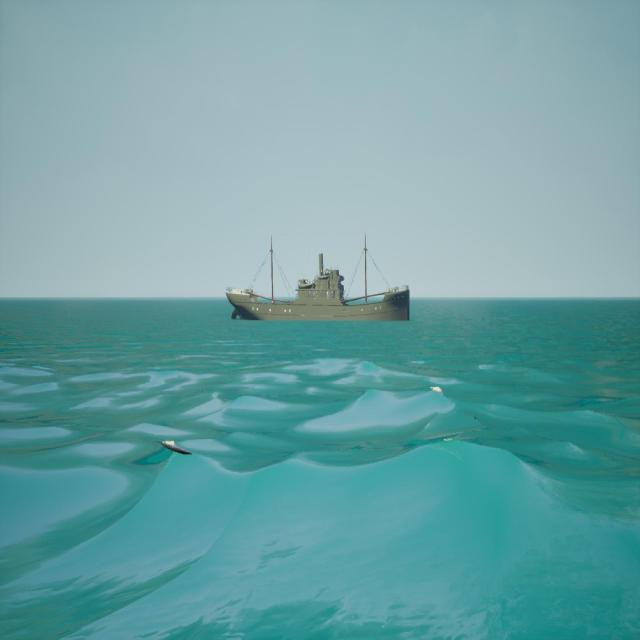fishing ship: (227, 239, 411, 324)
